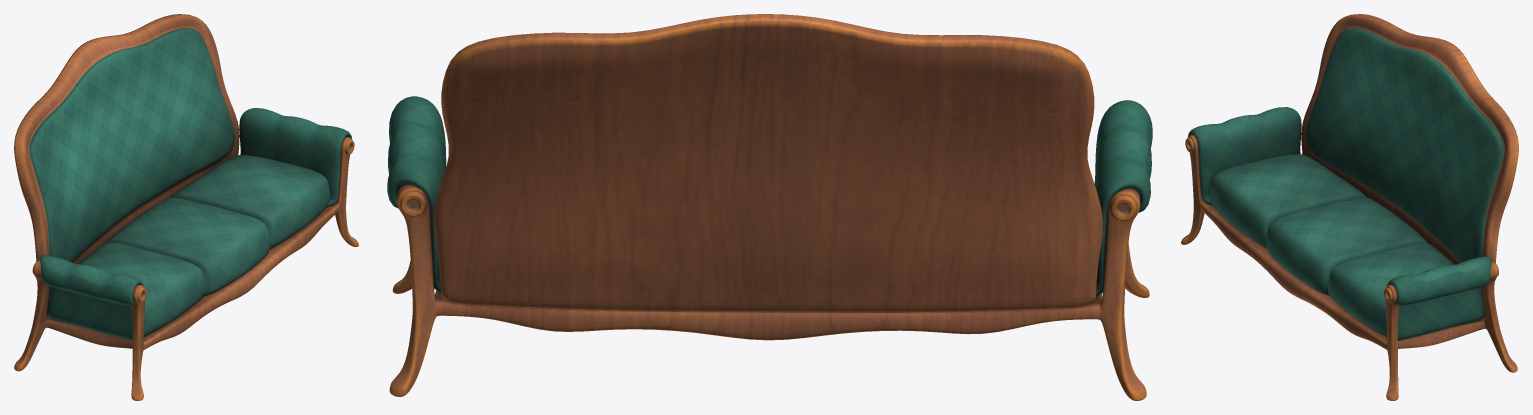
File: sofa-test.glb
3 views of the same model, side by side, from view 1: azimuth 30°, elevation 25°; view 2: azimuth 150°, elevation 25°; view 3: azimuth 270°, elevation 25° (orthographic). The views are drawn at different scales.
Visible parts, largest first — view 1: sofa_00_7.001; view 2: sofa_00_7.001; view 3: sofa_00_7.001.
Part boxes in pixels (x1=…): sofa_00_7.001: x1=14, y1=14, x2=358, y2=400; sofa_00_7.001: x1=387, y1=14, x2=1152, y2=400; sofa_00_7.001: x1=1181, y1=14, x2=1518, y2=400.
Bounding box in the file's own units: 0.9637 × 0.5669 × 0.7308.
Materials: 1 (1 with a texture image).
